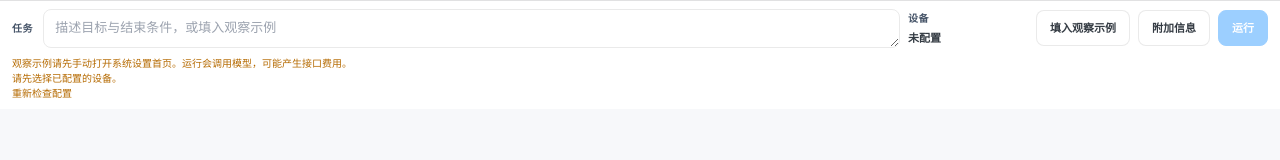
Test: Task Run Bar › retains an uncertain draft without persisting it in localStorage
The width and height of the screenshot is (1280, 160).
In the text box named "Task": (472, 28) [43,9,900,48], type "Open Display"
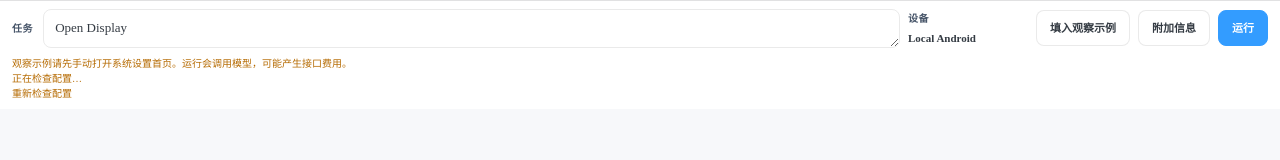
Now the button "运行" is enabled
Click the button "运行": (1243, 28) [1218,10,1268,46]
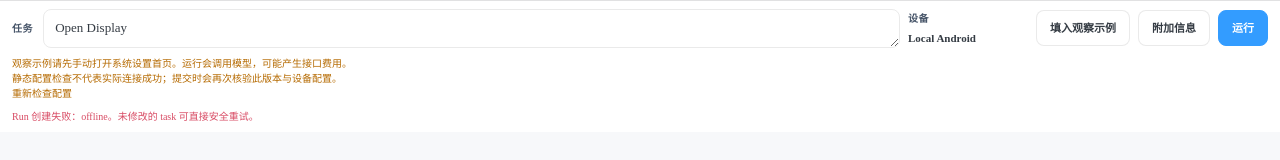
Now the text "Run 创建失败：offline。未修改的 task 可直接安全重试。" is shown, box [12,111,259,122]
